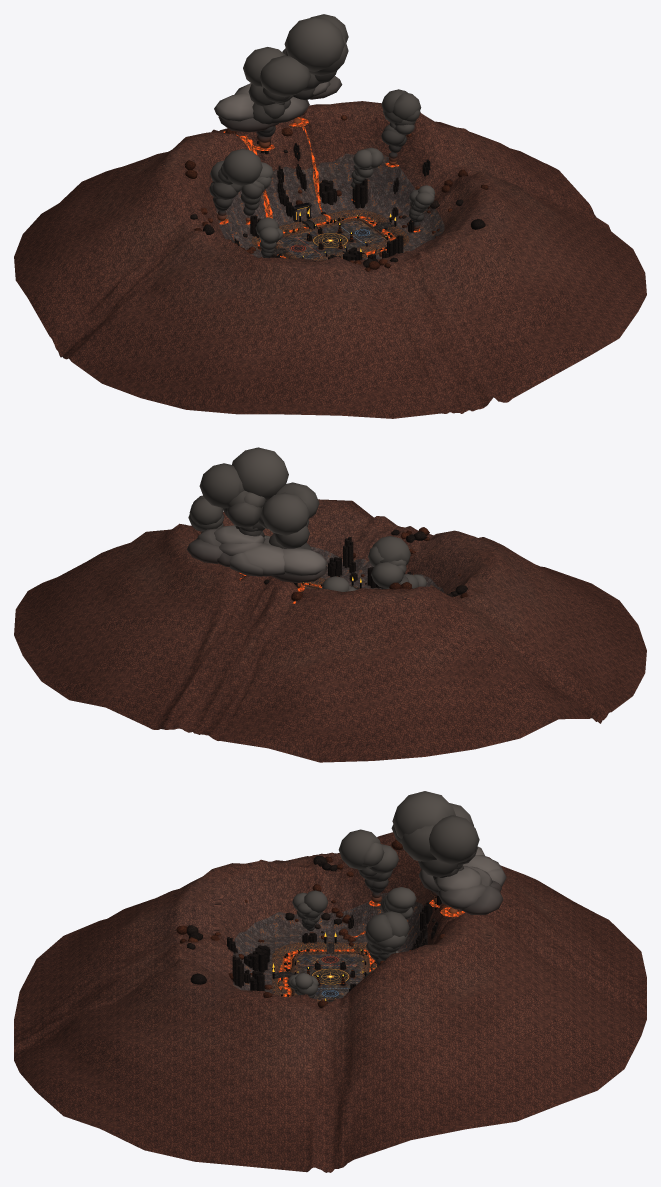
The model's file is arena_volcano.glb.
The picture shows the model from 3 angles, top to bottom: view 1: azimuth 30°, elevation 25°; view 2: azimuth 150°, elevation 25°; view 3: azimuth 270°, elevation 25°; orthographic projection. The views are drawn at different scales.
Visible parts, largest first — view 1: Decor, Ground, Lava; view 2: Decor; view 3: Decor, Ground, Lava.
Boxes of the visible parts, left/top/right/bottom form: Decor: left=14, top=14, right=646, bottom=418; Ground: left=277, top=220, right=386, bottom=259; Lava: left=223, top=126, right=396, bottom=258; Decor: left=14, top=447, right=646, bottom=762; Decor: left=14, top=791, right=646, bottom=1172; Ground: left=296, top=953, right=364, bottom=999; Lava: left=277, top=930, right=410, bottom=996.
Size of the model in its own units: 320 by 139 by 300.
Materials: 14 (10 with a texture image).
